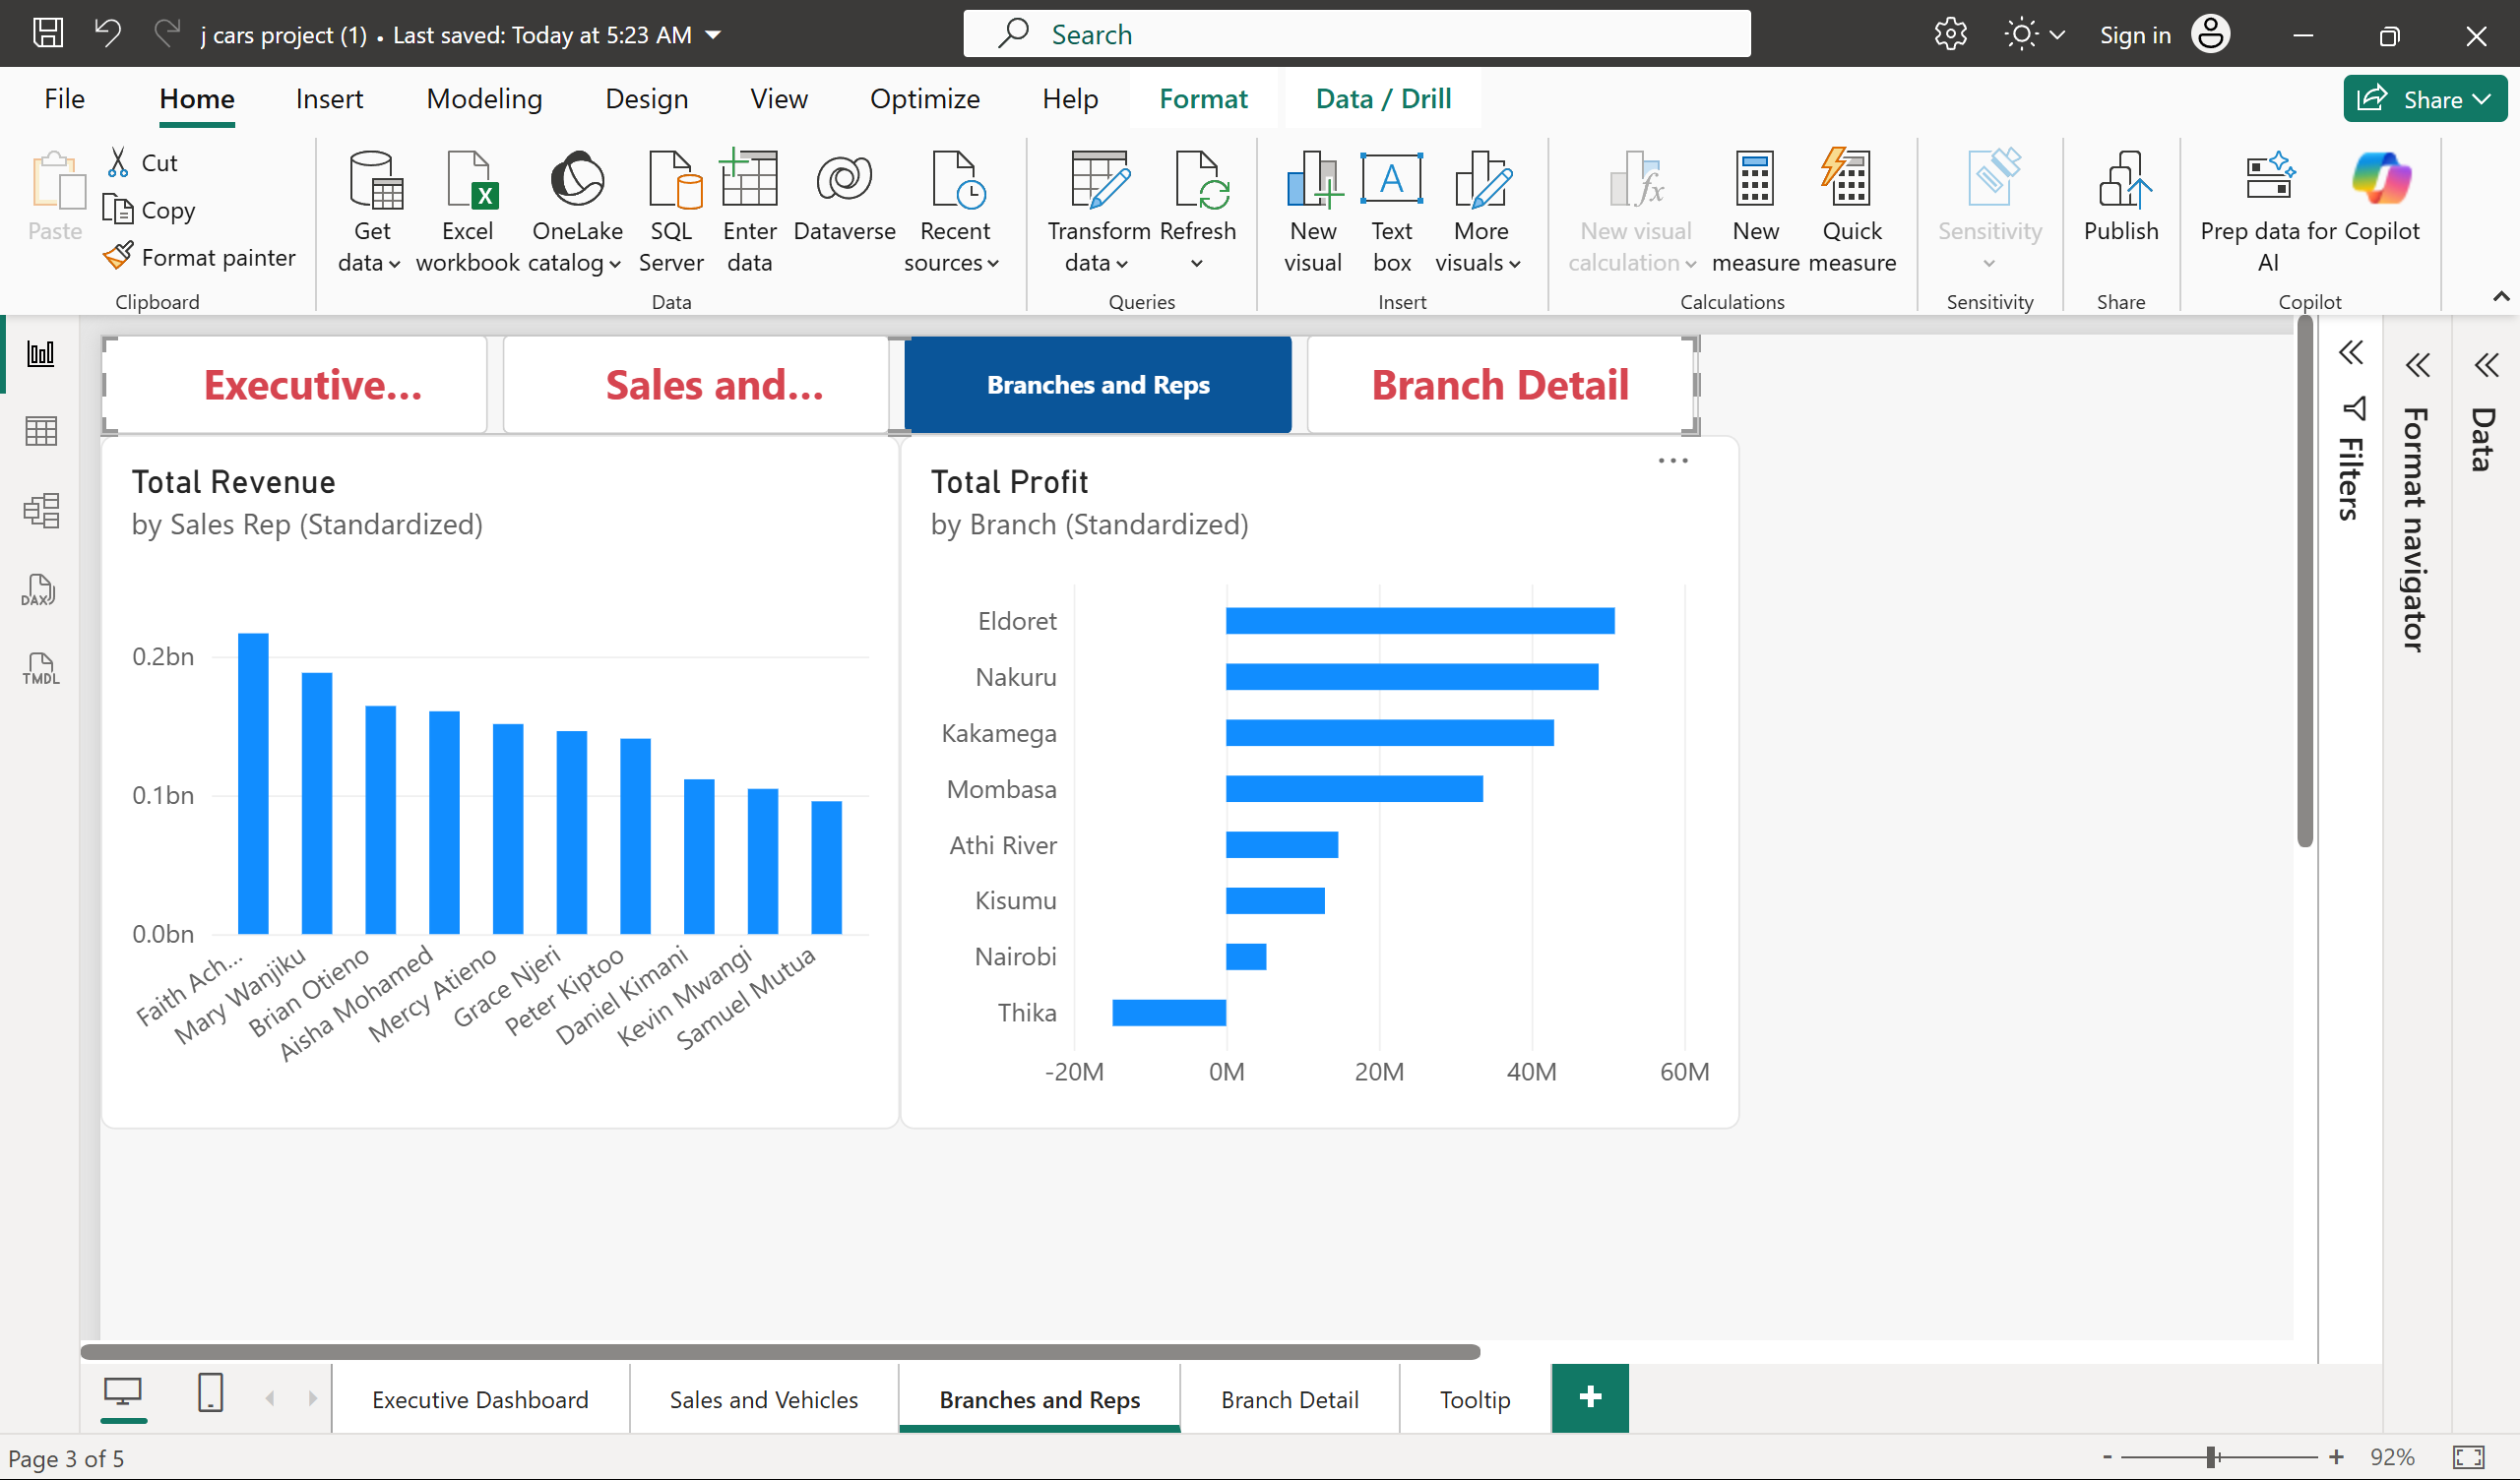

The page's visual inventory and layout, read from the dashboard file:
{"tool":"powerbi","page":{"name":"Branches and Reps","canvas":[1920,1080],"ordinal":2},"visuals":[{"type":"clusteredColumnChart","fields":{"Category":["DimSalesRep.Sales Rep (Standardized)"],"Y":["DimBranch.Total Revenue"]},"box":[0,55.4,441.3,383.7],"z":0},{"type":"clusteredBarChart","fields":{"Category":["DimBranch.Branch (Standardized)"],"Y":["Jcars_data.Total Profit"]},"box":[441.3,55.4,464.1,383.7],"z":1},{"type":"tableEx","fields":{"Values":["Jcars_data.Branch (Standardized)","DimBranch.Total Revenue","DimBranch.Total Cost","DimBranch.Total Logistics Cost","Jcars_data.Total Profit","Jcars_data.Blank Revenue Sales","DimBranch.Total Sales","Jcars_data.Cost of Blank Revenue Sales"]},"box":[1344.8,210.1,554.2,330.9],"z":2},{"type":"pageNavigator","box":[0,0,882.6,55.4],"z":3}]}

Visuals, with their boxes on the page's 1920x1080 design canvas (x1, y1, x2, y2). These are canvas units, not pixel positions in the 2520x1480 screenshot, which may show the page scaled, cropped or inside an application window:
clusteredColumnChart - DimSalesRep.Sales Rep (Standardized) x DimBranch.Total Revenue: {"left": 0, "top": 55, "right": 441, "bottom": 439}
clusteredBarChart - DimBranch.Branch (Standardized) x Jcars_data.Total Profit: {"left": 441, "top": 55, "right": 905, "bottom": 439}
tableEx - Jcars_data.Branch (Standardized) x DimBranch.Total Revenue: {"left": 1345, "top": 210, "right": 1899, "bottom": 541}
pageNavigator: {"left": 0, "top": 0, "right": 883, "bottom": 55}
